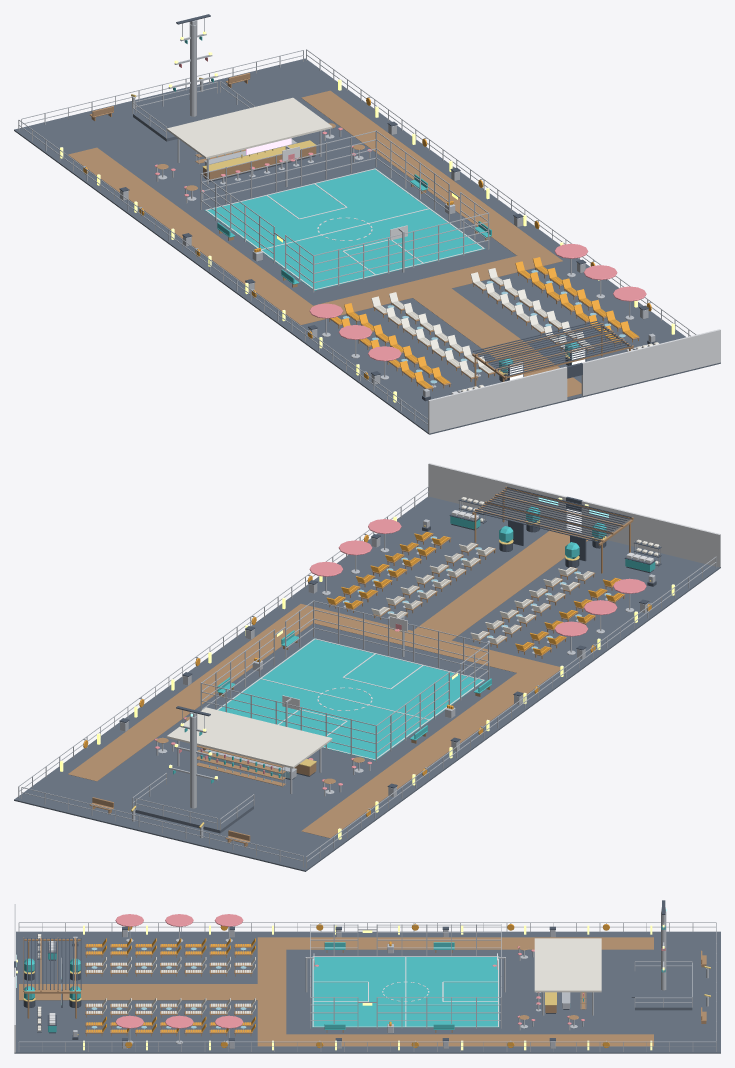
Rendered from sun-deck.glb.
3 views of the same model, one above another, from view 1: azimuth 30°, elevation 25°; view 2: azimuth 150°, elevation 25°; view 3: azimuth 270°, elevation 25° (orthographic). The views are drawn at different scales.
Parts seen in each view (by area): view 1: CM_DECK, CM_WOOD, CM_TEAL, CM_STEEL, CM_BULKHEAD, CM_CANVAS, CM_TRIM, CM_ORANGE, CM_CORAL, CM_NEON_AMBER, CM_BRASS; view 2: CM_DECK, CM_WOOD, CM_TEAL, CM_STEEL, CM_BULKHEAD, CM_CANVAS, CM_TRIM, CM_ORANGE, CM_CORAL, CM_NEON_AMBER, CM_GLASS; view 3: CM_DECK, CM_WOOD, CM_TEAL, CM_STEEL, CM_CANVAS, CM_ORANGE, CM_TRIM, CM_CORAL, CM_BULKHEAD, CM_NEON_AMBER, CM_GLASS, CM_BRASS.
Part boxes in pixels (left/top/right/bottom): CM_DECK: left=14, top=58, right=720, bottom=434; CM_WOOD: left=68, top=72, right=639, bottom=396; CM_TEAL: left=173, top=36, right=579, bottom=373; CM_STEEL: left=18, top=18, right=696, bottom=430; CM_BULKHEAD: left=205, top=146, right=720, bottom=433; CM_CANVAS: left=166, top=97, right=659, bottom=391; CM_TRIM: left=119, top=14, right=656, bottom=401; CM_ORANGE: left=83, top=97, right=651, bottom=388; CM_CORAL: left=154, top=57, right=646, bottom=361; CM_NEON_AMBER: left=60, top=31, right=674, bottom=402; CM_BRASS: left=131, top=77, right=569, bottom=375; CM_DECK: left=14, top=496, right=720, bottom=871; CM_WOOD: left=68, top=486, right=633, bottom=846; CM_TEAL: left=173, top=506, right=655, bottom=783; CM_STEEL: left=18, top=486, right=716, bottom=868; CM_BULKHEAD: left=217, top=463, right=720, bottom=759; CM_CANVAS: left=166, top=497, right=659, bottom=768; CM_TRIM: left=119, top=486, right=661, bottom=788; CM_ORANGE: left=83, top=532, right=651, bottom=817; CM_CORAL: left=154, top=519, right=646, bottom=789; CM_NEON_AMBER: left=60, top=497, right=674, bottom=839; CM_GLASS: left=208, top=536, right=611, bottom=781; CM_DECK: left=14, top=931, right=720, bottom=1053; CM_WOOD: left=19, top=937, right=706, bottom=1046; CM_TEAL: left=24, top=926, right=665, bottom=1032; CM_STEEL: left=18, top=907, right=716, bottom=1051; CM_CANVAS: left=37, top=934, right=601, bottom=1031; CM_ORANGE: left=86, top=924, right=609, bottom=1047; CM_TRIM: left=14, top=900, right=665, bottom=1041; CM_CORAL: left=115, top=914, right=665, bottom=1028; CM_BULKHEAD: left=14, top=904, right=498, bottom=1052; CM_NEON_AMBER: left=16, top=924, right=664, bottom=1050; CM_GLASS: left=91, top=947, right=570, bottom=1028; CM_BRASS: left=23, top=941, right=710, bottom=1035.
Size of the model in its own units: 30 by 9.94 by 74.02.
